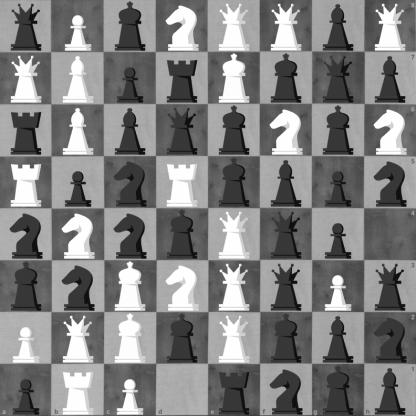B: (53, 53, 104, 104), (53, 105, 104, 156)
K: (105, 261, 156, 312), (105, 313, 156, 364), (209, 53, 260, 104)
N: (364, 104, 416, 156), (53, 209, 104, 260), (157, 1, 208, 52), (157, 261, 208, 312), (261, 105, 312, 156)
P: (104, 364, 156, 416), (1, 313, 52, 364), (53, 1, 104, 52), (313, 261, 364, 312)
Q: (364, 0, 416, 52), (1, 53, 52, 104), (53, 313, 104, 364), (209, 1, 260, 52), (209, 209, 260, 260), (209, 261, 260, 312), (209, 313, 260, 364), (261, 1, 312, 52)
R: (52, 364, 104, 416), (1, 157, 52, 208), (157, 157, 208, 208)
b: (364, 52, 416, 104), (364, 364, 416, 416), (105, 105, 156, 156), (261, 157, 312, 208), (313, 1, 364, 52), (313, 313, 364, 364)
board: (0, 0, 415, 415)
k: (312, 364, 364, 416), (1, 261, 52, 312), (105, 1, 156, 52), (157, 209, 208, 260), (157, 313, 208, 364), (209, 105, 260, 156), (209, 157, 260, 208), (261, 53, 312, 104), (261, 313, 312, 364), (313, 105, 364, 156)
n: (364, 156, 416, 209), (260, 364, 312, 416), (364, 312, 416, 364), (1, 209, 52, 260), (53, 261, 104, 312), (105, 157, 156, 208), (105, 209, 156, 260)
p: (0, 364, 52, 416), (53, 157, 104, 208), (105, 53, 156, 104), (313, 157, 364, 208), (313, 209, 364, 260)
q: (364, 260, 416, 312), (1, 1, 52, 52), (157, 105, 208, 156), (261, 209, 312, 260), (261, 261, 312, 312), (313, 53, 364, 104)
r: (209, 364, 260, 416), (1, 105, 52, 156), (157, 53, 208, 104)
